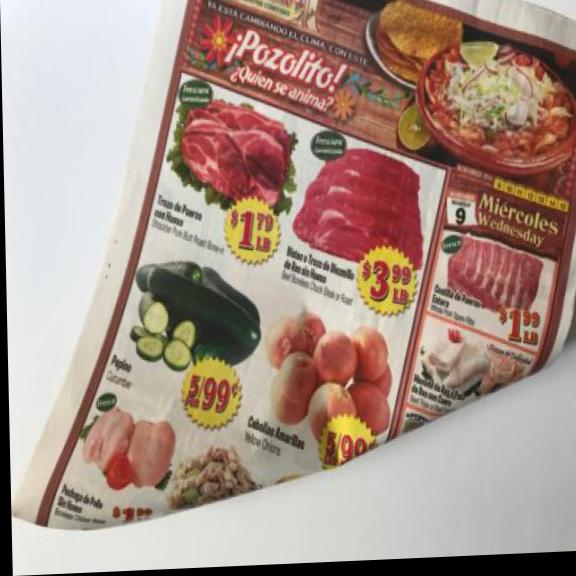Kertas: (3, 0, 576, 532)
